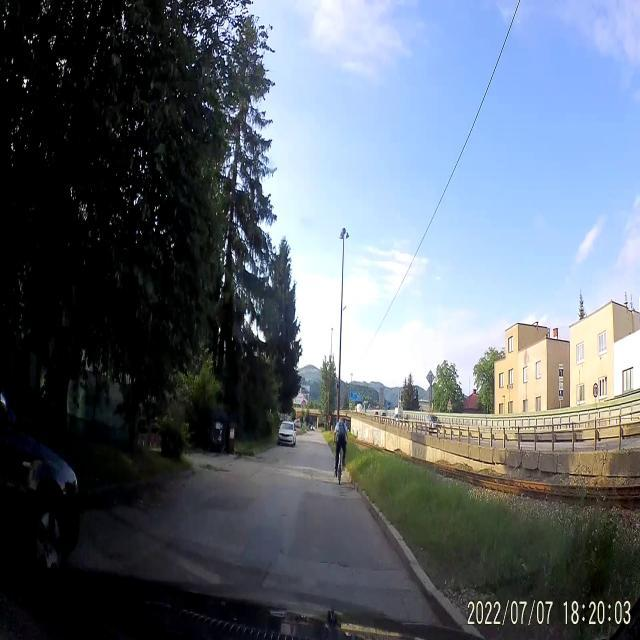Pothole: (206, 451, 234, 482)
